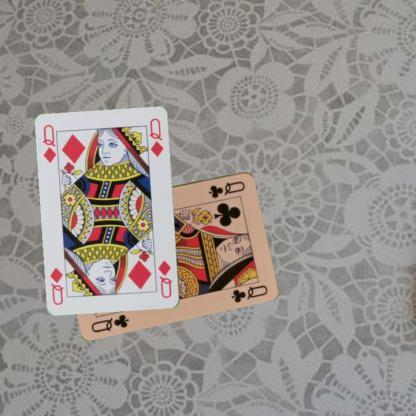Qc: (89, 310, 130, 334), (206, 178, 247, 200)
Qd: (40, 122, 62, 166), (156, 258, 173, 300)
